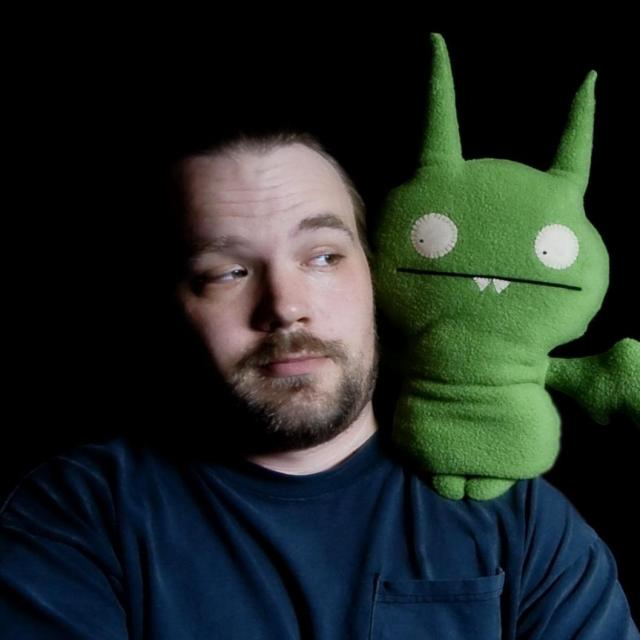no-glass: (199, 250, 345, 288)
